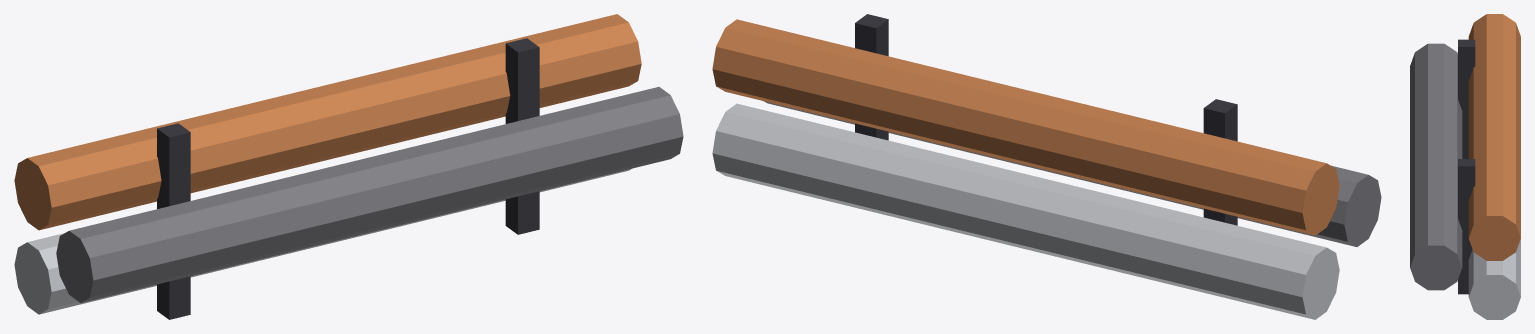
The model's file is industrial_pipe_bundle.glb.
The picture shows the model from 3 angles, left to right: view 1: azimuth 30°, elevation 25°; view 2: azimuth 150°, elevation 25°; view 3: azimuth 270°, elevation 25°; orthographic projection. The views are drawn at different scales.
Parts seen in each view (by area): view 1: pipe_c, pipe_b, pipe_a, strap_r, strap_l; view 2: pipe_a, pipe_b, pipe_c, strap_l, strap_r; view 3: pipe_b, pipe_c, pipe_a, strap_r, strap_l.
Part boxes in pixels (box(x1,y1,x2,y2)): pipe_c: box(56, 87, 683, 302); pipe_b: box(14, 14, 641, 230); pipe_a: box(14, 168, 631, 314); strap_r: box(505, 38, 539, 234); strap_l: box(157, 123, 190, 319); pipe_a: box(712, 103, 1339, 319); pipe_b: box(712, 19, 1339, 235); pipe_c: box(764, 101, 1381, 246); strap_l: box(1203, 99, 1237, 225); strap_r: box(855, 14, 888, 140); pipe_b: box(1468, 14, 1520, 260); pipe_c: box(1410, 43, 1462, 290); pipe_a: box(1468, 239, 1520, 319); strap_r: box(1458, 159, 1475, 294); strap_l: box(1458, 39, 1475, 158).
Bounding box in the file's own units: 2.2 × 0.65 × 0.51.
